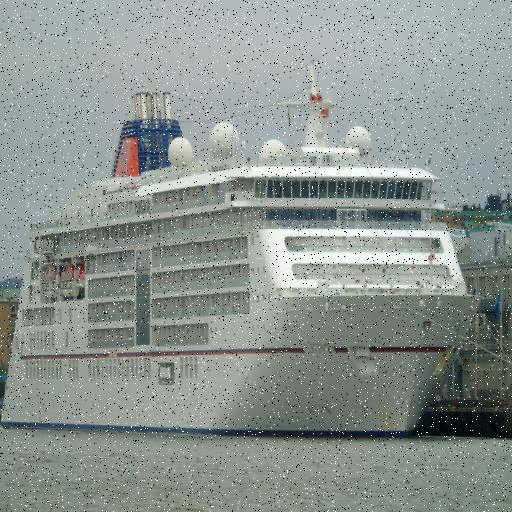cruises: (1, 59, 486, 447)
